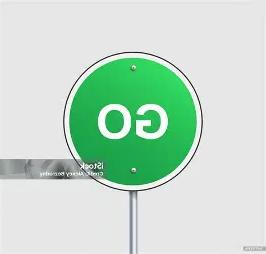Go: (64, 52, 203, 190)
